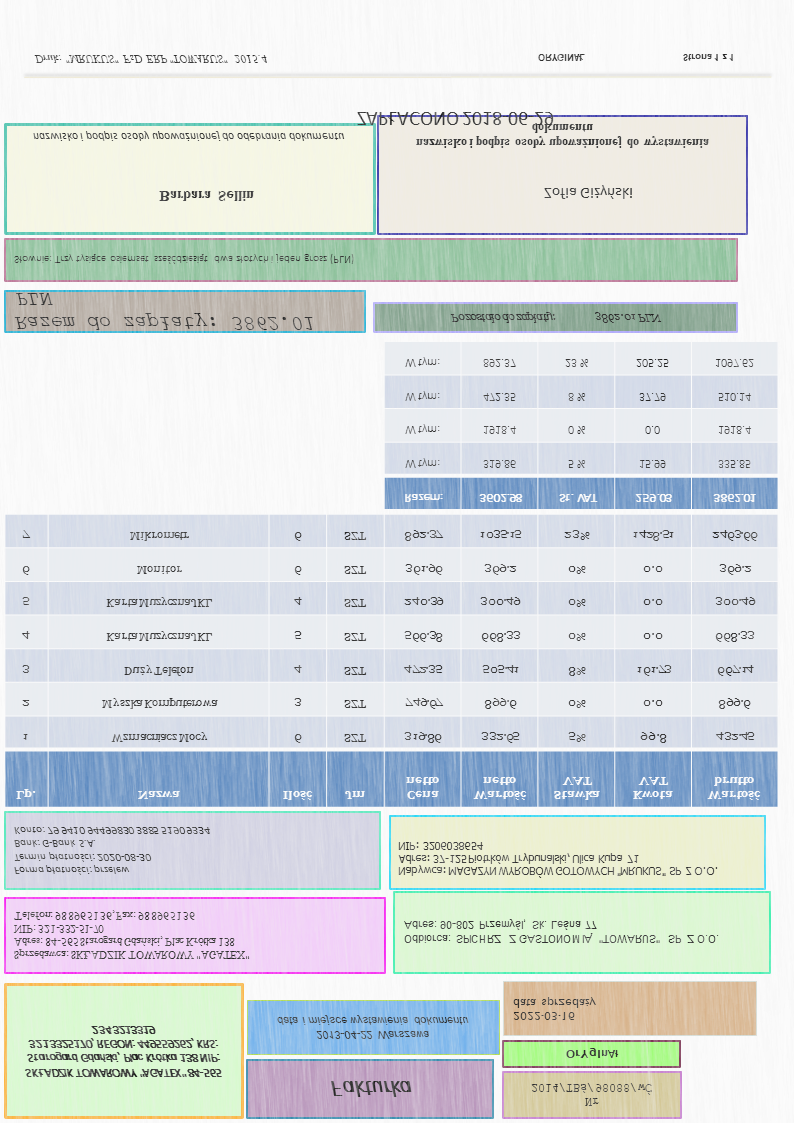Table: (3, 514, 778, 808), (383, 342, 778, 511)
TextBox: (10, 908, 250, 963), (395, 839, 717, 879), (21, 1021, 223, 1082), (13, 291, 314, 331), (11, 822, 213, 879), (402, 917, 723, 947), (413, 122, 711, 150), (274, 1013, 471, 1043), (30, 128, 345, 145), (12, 252, 356, 266), (354, 108, 555, 127), (528, 1081, 655, 1110), (33, 52, 270, 67), (447, 310, 665, 326), (536, 51, 736, 65), (510, 994, 599, 1024), (327, 1078, 413, 1099), (541, 184, 635, 201), (157, 188, 254, 204), (563, 1046, 622, 1062)
